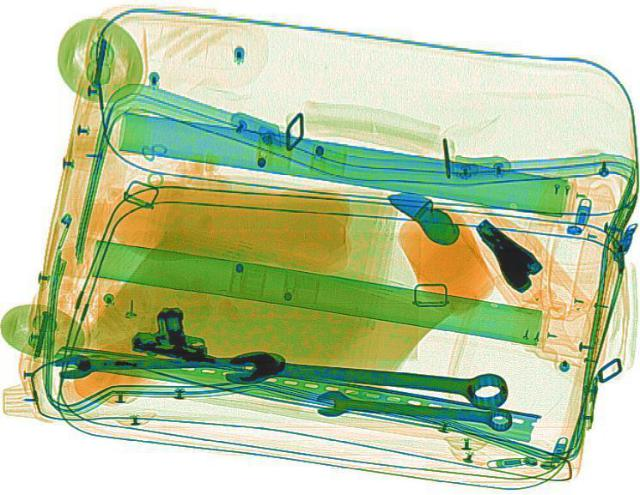Gun: (127, 303, 259, 367)
Wrench: (221, 346, 509, 410), (312, 388, 514, 433), (52, 348, 284, 376)
